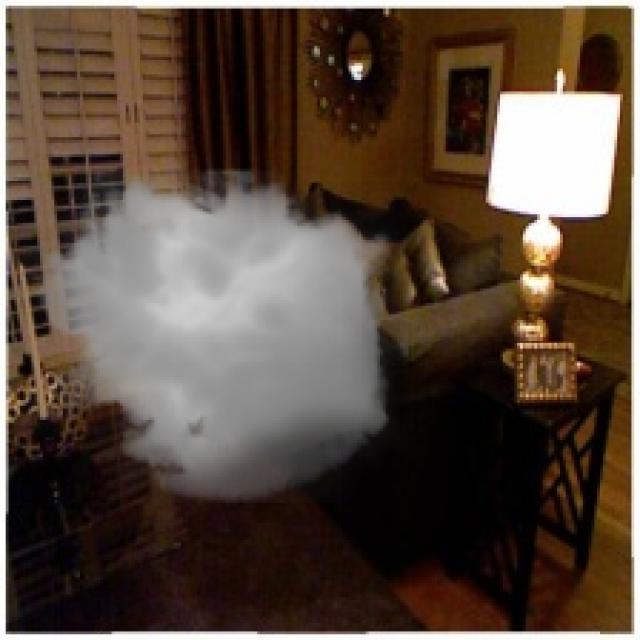smoke: (23, 155, 408, 514)
